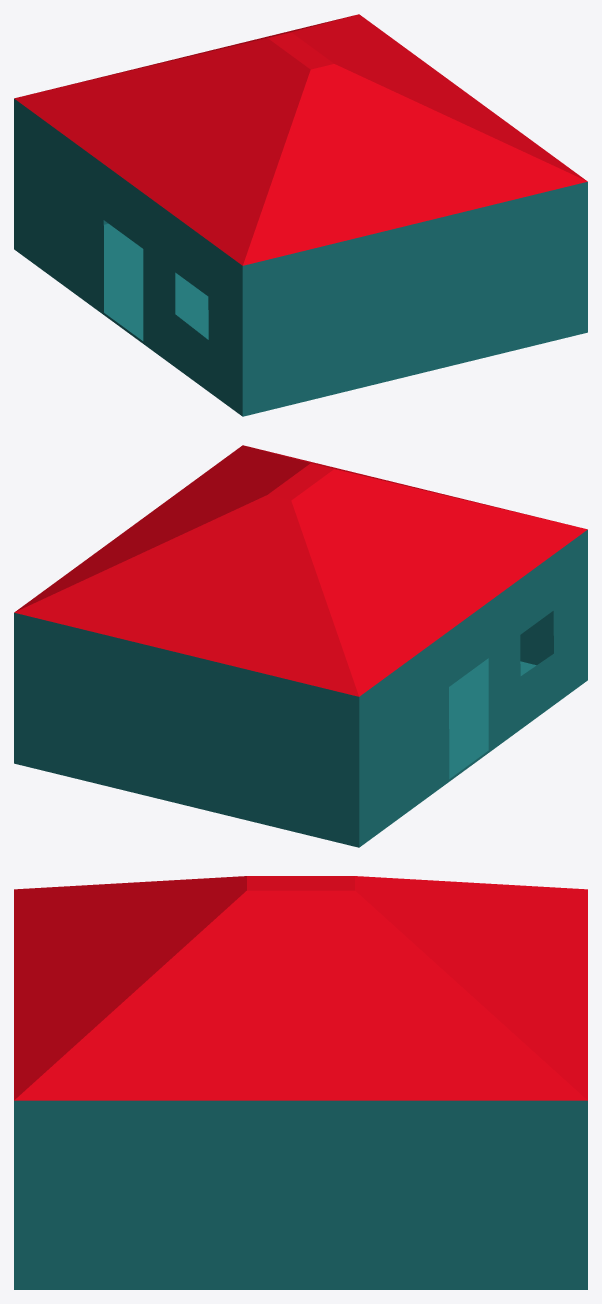
Rendered from house.fbx.
3 renders of one model, top to bottom at view 1: azimuth 30°, elevation 25°; view 2: azimuth 150°, elevation 25°; view 3: azimuth 270°, elevation 25°, orthographic. The views are drawn at different scales.
Visible parts, largest first — view 1: Cube; view 2: Cube; view 3: Cube.
Boxes of the visible parts, x1,y1,x2,y2 form: Cube: (14, 14, 587, 416); Cube: (14, 445, 587, 847); Cube: (14, 876, 587, 1289).
Bounding box in the file's own units: 1197 × 796 × 1375.
